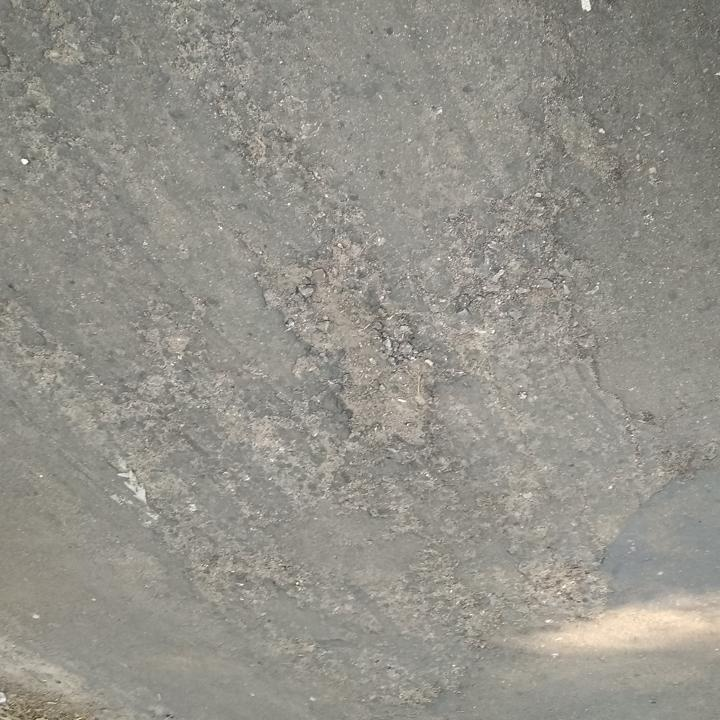pothole: (252, 246, 445, 458)
